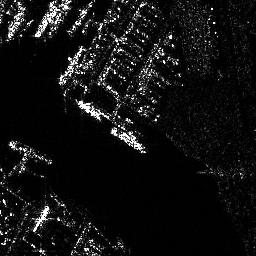ship: (109, 126, 149, 154), (7, 139, 52, 163), (59, 44, 85, 85), (32, 3, 57, 36), (75, 98, 101, 121)
